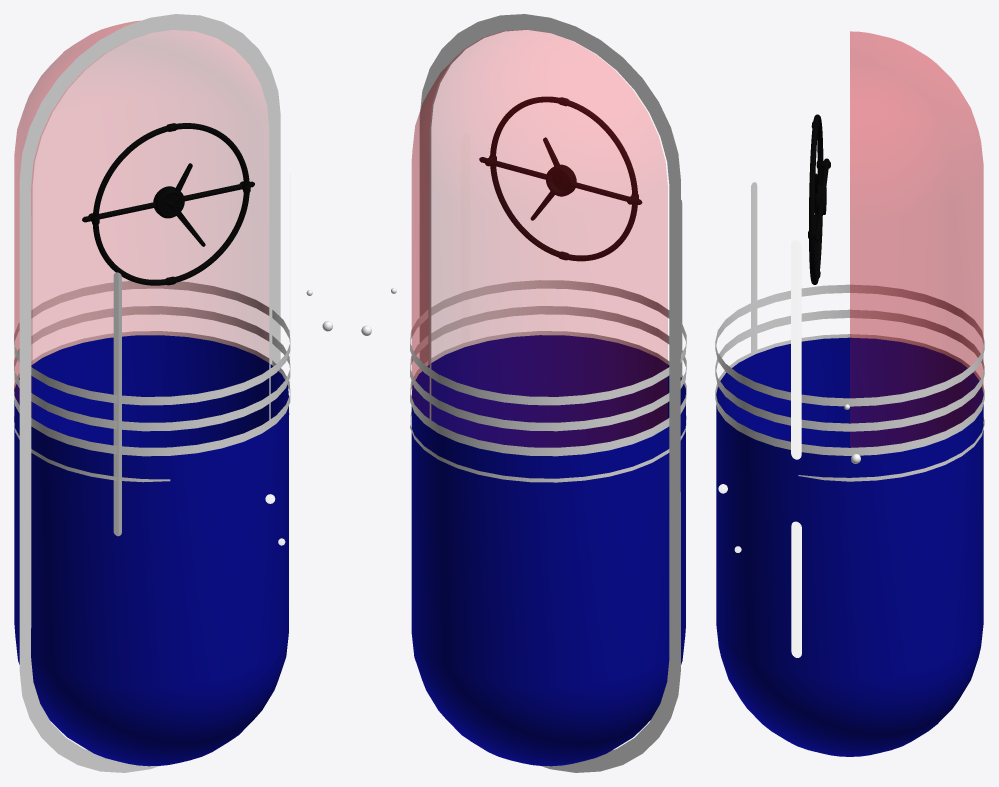
Rendered from PillUpdatematrix.glb.
3 renders of one model, left to right at view 1: azimuth 30°, elevation 25°; view 2: azimuth 150°, elevation 25°; view 3: azimuth 270°, elevation 25°, orthographic. The views are drawn at different scales.
Parts seen in each view (by area): view 1: Capsule Pill.002, Backdrop, Capsule Pill.006, clock, Capsule Pill.004, Capsule Pill.003, Capsule Pill.005, Sphere.007, Capsule Pill.007; view 2: Capsule Pill.002, Backdrop, Capsule Pill.006, clock, Capsule Pill.003, Capsule Pill.004, Capsule Pill.005, Sphere.002, Capsule Pill.007; view 3: Capsule Pill.002, Backdrop, Capsule Pill.003, Capsule Pill.004, Capsule Pill.005, clock, Sphere.002, Sphere, Sphere.007, Capsule Pill.007.
Boxes of the visible parts, bbox=[...] form: Capsule Pill.002: bbox=[14, 335, 288, 766]; Backdrop: bbox=[14, 21, 268, 417]; Capsule Pill.006: bbox=[19, 14, 280, 772]; clock: bbox=[82, 123, 254, 285]; Capsule Pill.004: bbox=[14, 306, 290, 431]; Capsule Pill.003: bbox=[14, 281, 290, 405]; Capsule Pill.005: bbox=[14, 331, 290, 456]; Sphere.007: bbox=[113, 272, 121, 536]; Capsule Pill.007: bbox=[14, 413, 289, 482]; Capsule Pill.002: bbox=[411, 335, 685, 766]; Backdrop: bbox=[412, 30, 667, 447]; Capsule Pill.006: bbox=[419, 14, 680, 772]; clock: bbox=[479, 96, 642, 261]; Capsule Pill.003: bbox=[410, 280, 686, 405]; Capsule Pill.004: bbox=[410, 306, 686, 431]; Capsule Pill.005: bbox=[410, 331, 686, 456]; Sphere.002: bbox=[460, 133, 470, 343]; Capsule Pill.007: bbox=[410, 412, 686, 482]; Capsule Pill.002: bbox=[716, 337, 983, 756]; Backdrop: bbox=[850, 31, 983, 447]; Capsule Pill.003: bbox=[715, 284, 984, 406]; Capsule Pill.004: bbox=[715, 309, 984, 431]; Capsule Pill.005: bbox=[715, 334, 984, 455]; clock: bbox=[808, 114, 830, 284]; Sphere.002: bbox=[791, 240, 801, 459]; Sphere: bbox=[791, 521, 801, 657]; Sphere.007: bbox=[751, 182, 757, 354]; Capsule Pill.007: bbox=[798, 417, 984, 481].
Bounding box in the file's own units: 3.98 × 9.05 × 3.02.
